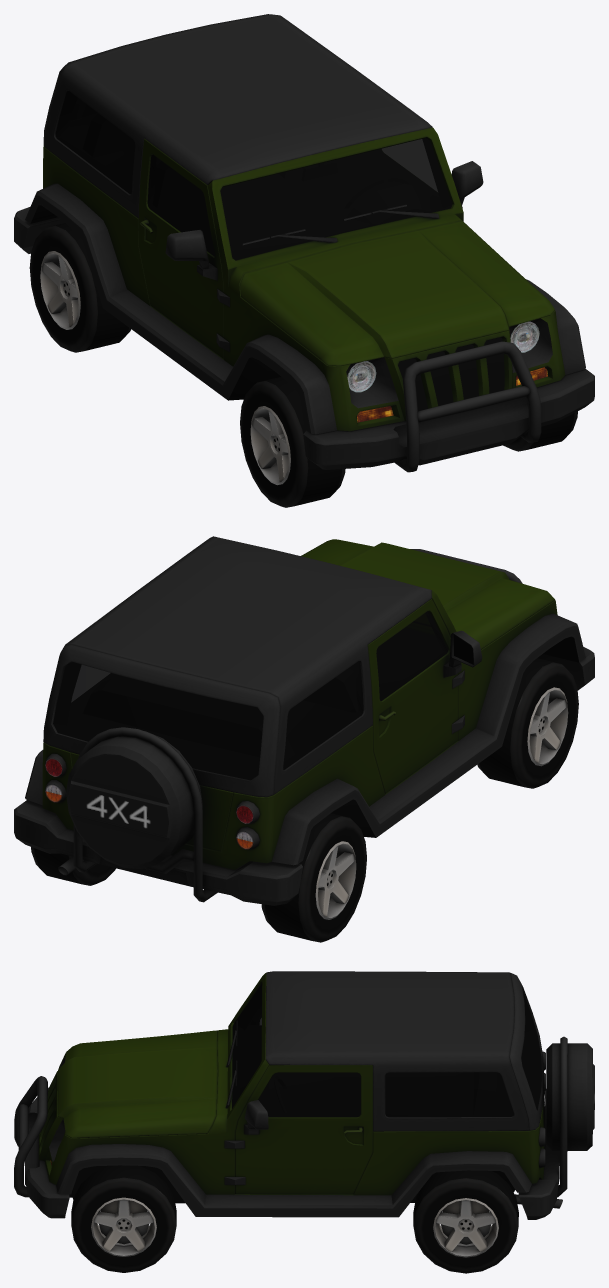
The model's file is car4.glb.
The picture shows the model from 3 angles, top to bottom: view 1: azimuth 30°, elevation 25°; view 2: azimuth 150°, elevation 25°; view 3: azimuth 270°, elevation 25°; orthographic projection. The views are drawn at different scales.
Visible parts, largest first — view 1: Offroad Body, Wheel_G001_Wheel_0.001, Wheel_G002, Wheel_G; view 2: Offroad Body, Wheel_G001_Wheel_0.001, Wheel_G002, Wheel_G001; view 3: Offroad Body, Wheel_G, Wheel_G001.
Part boxes in pixels (x1=…): Offroad Body: x1=14, y1=14, x2=594, y2=472; Wheel_G001_Wheel_0.001: x1=240, y1=376, x2=345, y2=507; Wheel_G002: x1=29, y1=223, x2=130, y2=352; Wheel_G: x1=503, y1=411, x2=577, y2=451; Offroad Body: x1=14, y1=536, x2=594, y2=905; Wheel_G001_Wheel_0.001: x1=477, y1=658, x2=578, y2=788; Wheel_G002: x1=261, y1=813, x2=366, y2=942; Wheel_G001: x1=31, y1=847, x2=115, y2=885; Offroad Body: x1=14, y1=971, x2=594, y2=1219; Wheel_G: x1=71, y1=1165, x2=176, y2=1272; Wheel_G001: x1=413, y1=1170, x2=518, y2=1273.
Size of the model in its own units: 1.96 by 1.57 by 3.94.
Materials: 4 (3 with a texture image).
